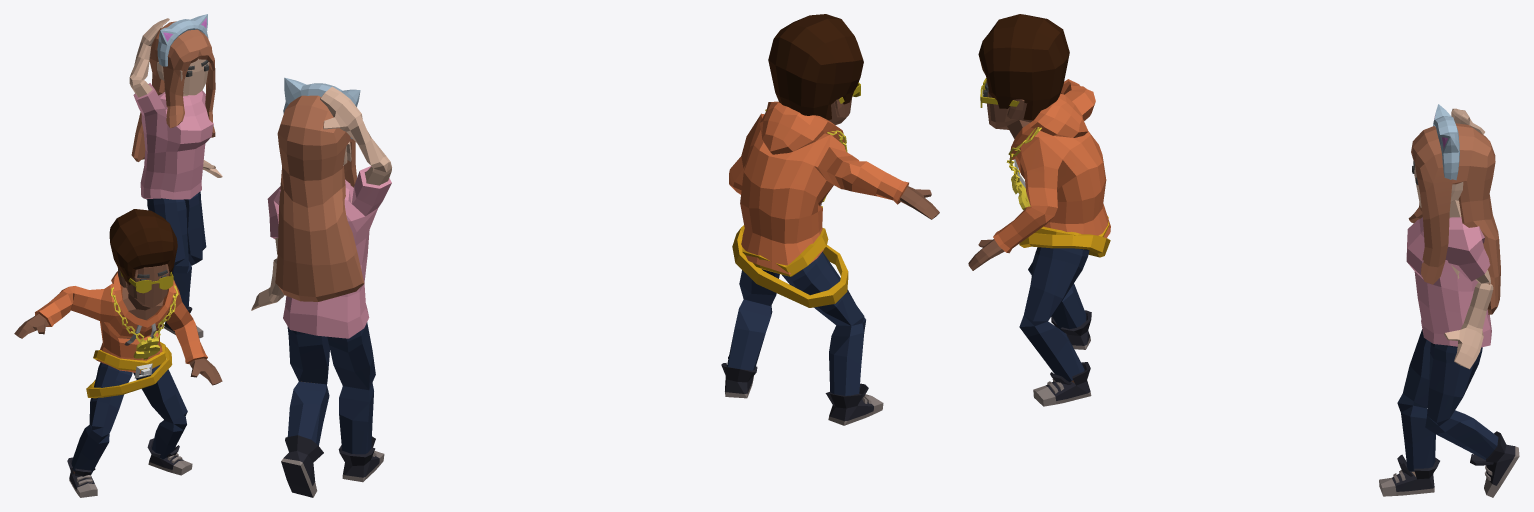
The model's file is Title_Characters.fbx.
3 renders of one model, left to right at view 1: azimuth 30°, elevation 25°; view 2: azimuth 150°, elevation 25°; view 3: azimuth 270°, elevation 25°, orthographic. The views are drawn at different scales.
Visible parts, largest first — view 1: 8_shoes_mesh_0.003, 8_shoes_mesh_0.002; view 2: 8_shoes_mesh_0.003, 8_shoes_mesh_0.002; view 3: 8_shoes_mesh_0.003, 8_shoes_mesh_0.002.
Part boxes in pixels (x1=…): 8_shoes_mesh_0.003: x1=14, y1=209, x2=222, y2=497; 8_shoes_mesh_0.002: x1=129, y1=14, x2=222, y2=338; 8_shoes_mesh_0.003: x1=721, y1=14, x2=939, y2=425; 8_shoes_mesh_0.002: x1=251, y1=77, x2=391, y2=497; 8_shoes_mesh_0.003: x1=968, y1=14, x2=1110, y2=406; 8_shoes_mesh_0.002: x1=1379, y1=104, x2=1519, y2=497.
Size of the model in its own units: 736 by 590 by 767.
